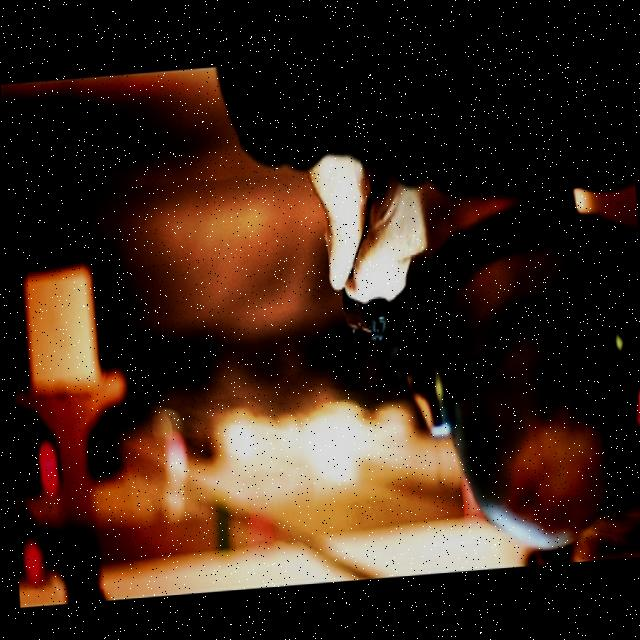pistol: (340, 285, 387, 348)
